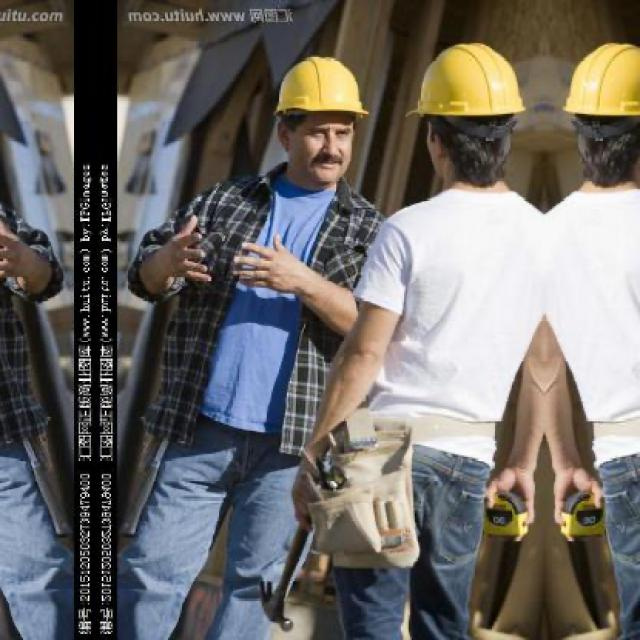helmet: (395, 26, 540, 192), (262, 38, 381, 191), (547, 26, 640, 194)
